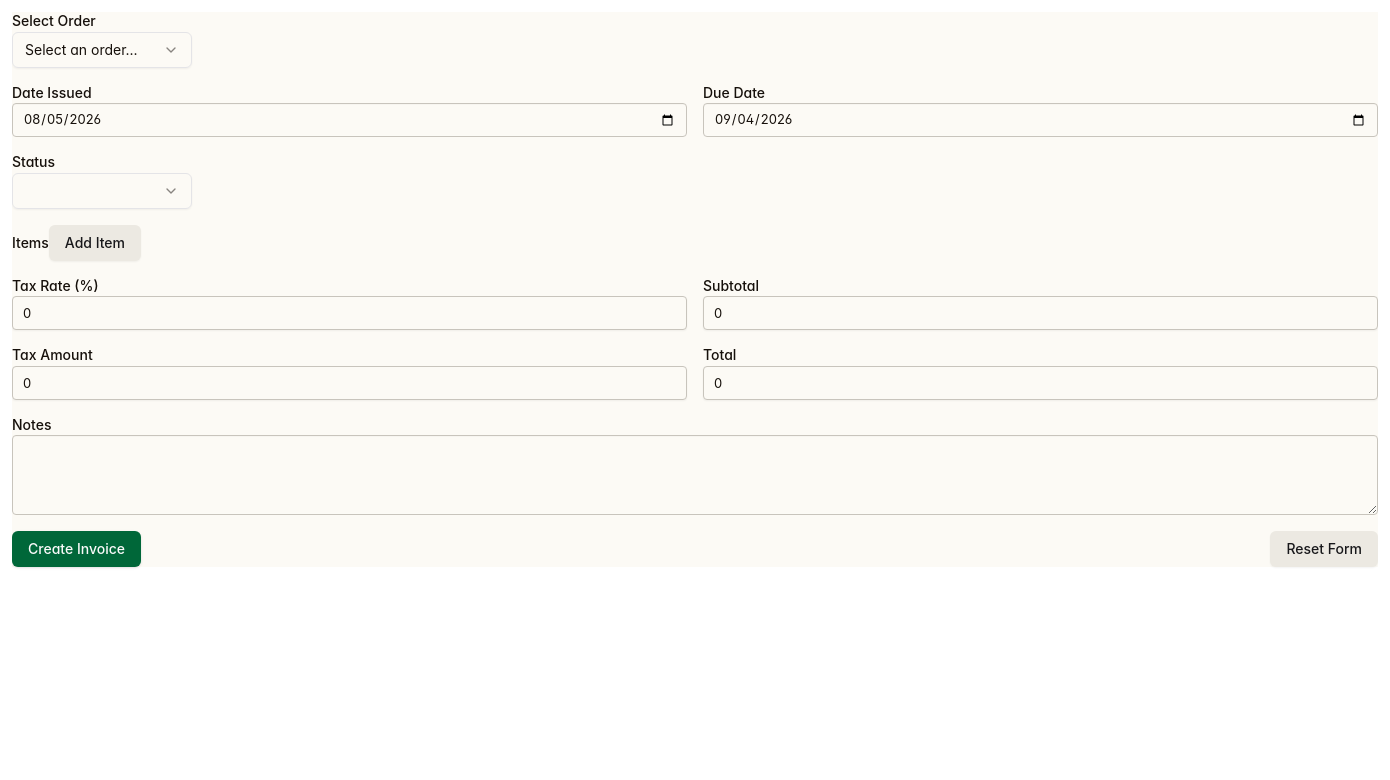
InvoiceForm › Add Item button appends a new item row with description, qty, and price fields
Check: the field with placeholder "description" is not shown
Click the button "Add Item" at (95, 242), box [49, 224, 141, 260]
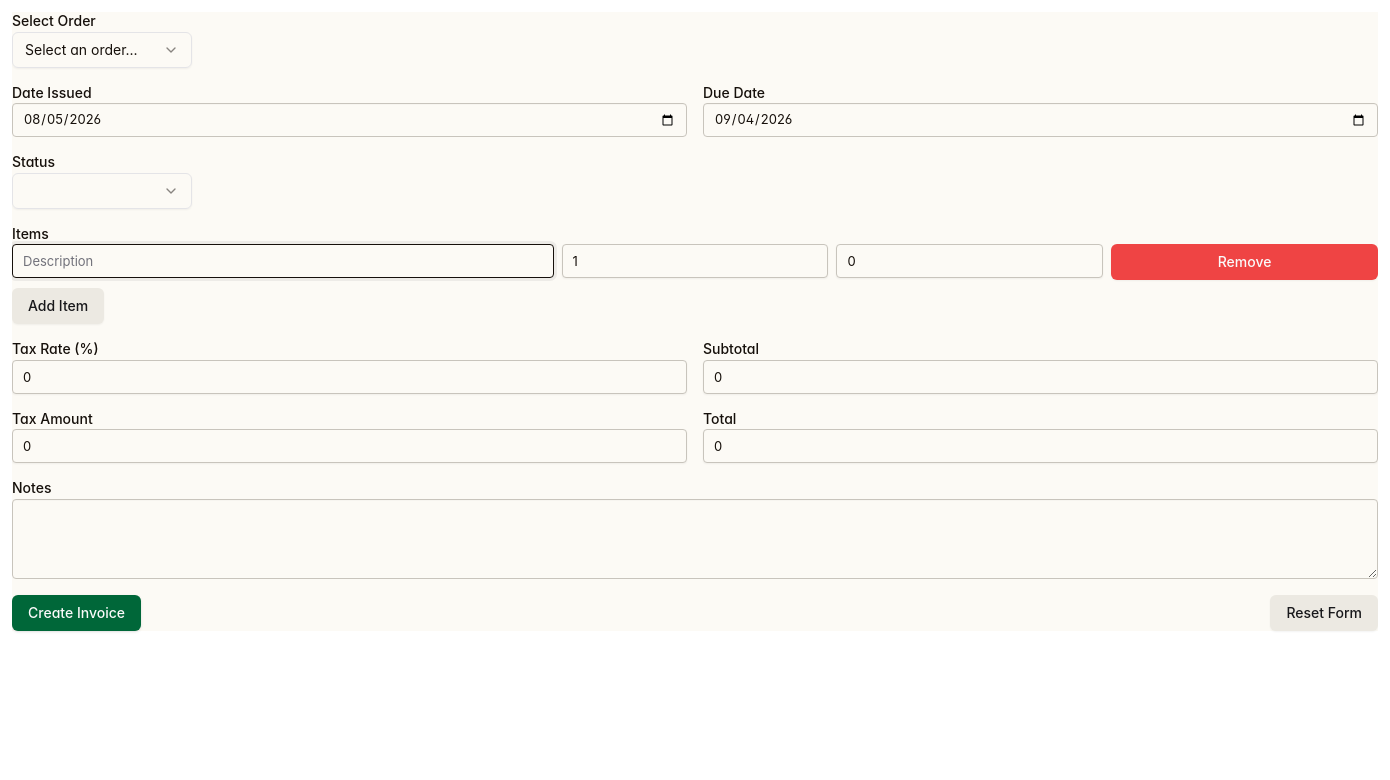
Check: the field with placeholder "Description" is shown, box [12, 244, 554, 278]
Check: the 1st number field with placeholder "Qty" is shown, box [562, 244, 828, 278]
Check: the 2nd number field with placeholder "Price" is shown, box [836, 244, 1103, 278]
